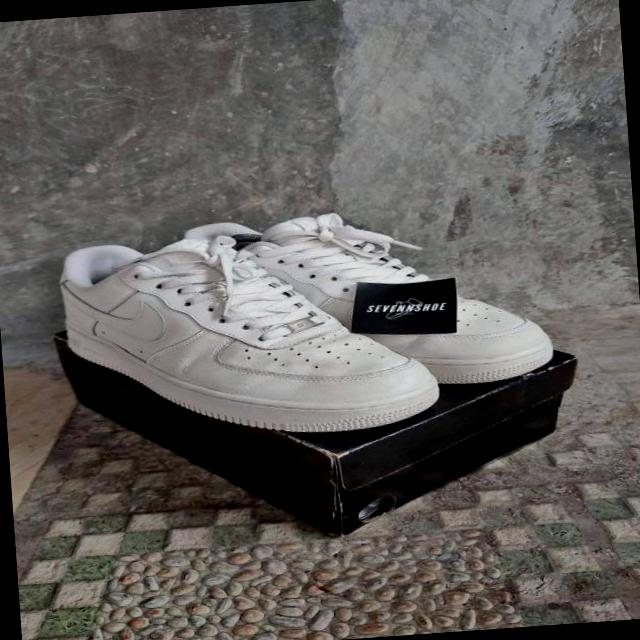nike_fake_airforce: (59, 220, 446, 453), (184, 198, 557, 404)
